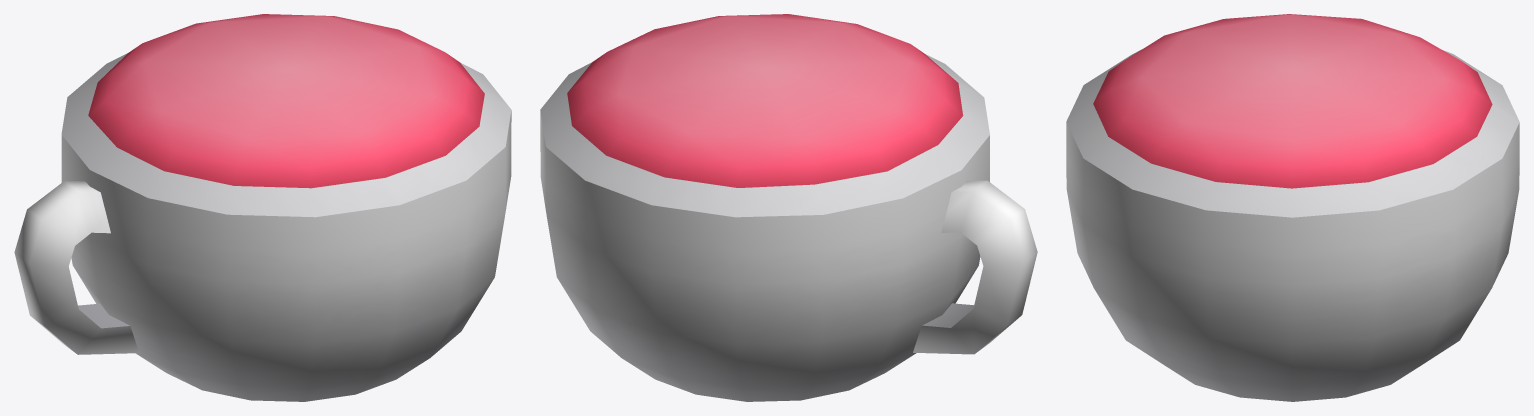
File: m_Cup02_Pink01.fbx
The picture shows the model from 3 angles, left to right: view 1: azimuth 30°, elevation 25°; view 2: azimuth 150°, elevation 25°; view 3: azimuth 270°, elevation 25°; orthographic projection.
Visible parts, largest first — view 1: m_Cup02_Pink01; view 2: m_Cup02_Pink01; view 3: m_Cup02_Pink01.
Boxes of the visible parts, x1=… form: m_Cup02_Pink01: x1=14, y1=14, x2=511, y2=401; m_Cup02_Pink01: x1=540, y1=14, x2=1037, y2=401; m_Cup02_Pink01: x1=1066, y1=14, x2=1519, y2=401.
Bounding box in the file's own units: 14.87 × 8.5 × 12.68.
